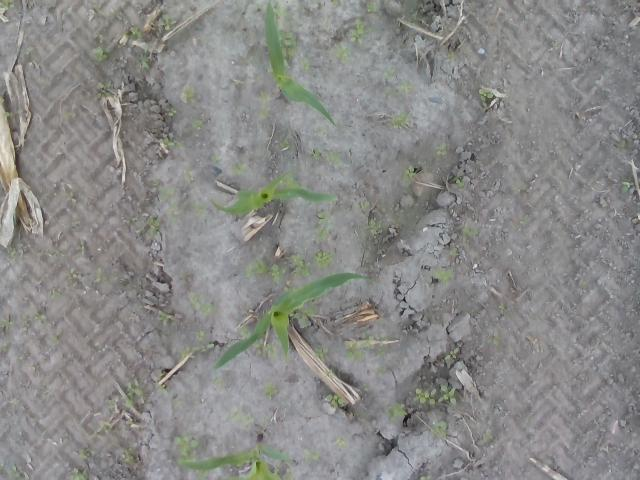Maize: (213, 271, 378, 366), (262, 1, 340, 128), (206, 170, 338, 216), (180, 433, 292, 480)
Weeds: (276, 27, 297, 69), (172, 431, 198, 462), (188, 292, 218, 316), (252, 336, 280, 360), (348, 18, 372, 45), (123, 380, 145, 408), (226, 408, 255, 428), (314, 210, 330, 243), (430, 266, 454, 286), (387, 111, 411, 131), (292, 254, 312, 278), (136, 218, 160, 237), (90, 420, 112, 440), (246, 261, 270, 279), (412, 388, 436, 406), (293, 307, 315, 326), (386, 402, 408, 421), (331, 44, 354, 62), (158, 186, 177, 207), (314, 249, 333, 270), (280, 172, 302, 190), (176, 344, 200, 360), (94, 80, 114, 99), (270, 2, 290, 21), (438, 385, 458, 404), (260, 381, 280, 400), (346, 341, 364, 361), (2, 107, 23, 124), (122, 24, 144, 40), (325, 393, 347, 409), (397, 78, 416, 96), (429, 420, 448, 438), (454, 222, 478, 236), (322, 150, 343, 166), (158, 136, 182, 150), (376, 332, 390, 356), (272, 465, 294, 480), (478, 86, 493, 108), (158, 13, 176, 31), (270, 263, 286, 283), (92, 45, 112, 60), (138, 45, 150, 69), (366, 218, 382, 236), (304, 448, 322, 464), (236, 324, 253, 340), (360, 333, 376, 350), (403, 164, 418, 182), (68, 468, 90, 480), (32, 310, 48, 326), (180, 86, 196, 102), (165, 208, 180, 225), (230, 161, 247, 176), (192, 202, 210, 216), (487, 330, 502, 346), (62, 104, 78, 118), (124, 446, 136, 464), (314, 347, 328, 362), (444, 347, 460, 360), (74, 238, 88, 252), (382, 67, 396, 81), (434, 142, 448, 156), (334, 436, 348, 450), (308, 148, 322, 161), (10, 466, 23, 480), (158, 312, 171, 326), (155, 382, 169, 395), (353, 200, 371, 210), (94, 266, 104, 283), (184, 166, 194, 183), (366, 0, 378, 14), (382, 86, 396, 98), (482, 428, 494, 442), (46, 334, 60, 346), (91, 30, 105, 42), (620, 178, 630, 194), (68, 266, 78, 282), (20, 46, 36, 56), (192, 118, 204, 131), (259, 90, 270, 104), (408, 10, 419, 24), (452, 176, 464, 188), (279, 138, 291, 150), (230, 79, 243, 90), (299, 57, 310, 70), (0, 0, 14, 10), (0, 318, 14, 328), (259, 106, 271, 117), (195, 330, 206, 342), (77, 446, 90, 456), (7, 246, 17, 258), (266, 60, 275, 73), (165, 107, 178, 116), (498, 303, 508, 314), (199, 343, 214, 350), (48, 290, 61, 298), (66, 192, 76, 202), (616, 138, 626, 148), (520, 215, 530, 225), (445, 51, 455, 61), (284, 282, 294, 292), (323, 370, 333, 380), (198, 470, 208, 480), (54, 249, 66, 257), (214, 378, 224, 387), (20, 316, 31, 324), (376, 366, 387, 374), (451, 246, 458, 258), (212, 152, 220, 162), (126, 418, 136, 426), (363, 383, 372, 391), (109, 402, 118, 410), (127, 216, 139, 222), (316, 126, 324, 133), (0, 343, 8, 350), (421, 475, 432, 480), (72, 221, 82, 226), (578, 279, 586, 285), (462, 236, 468, 243), (332, 0, 342, 4)
